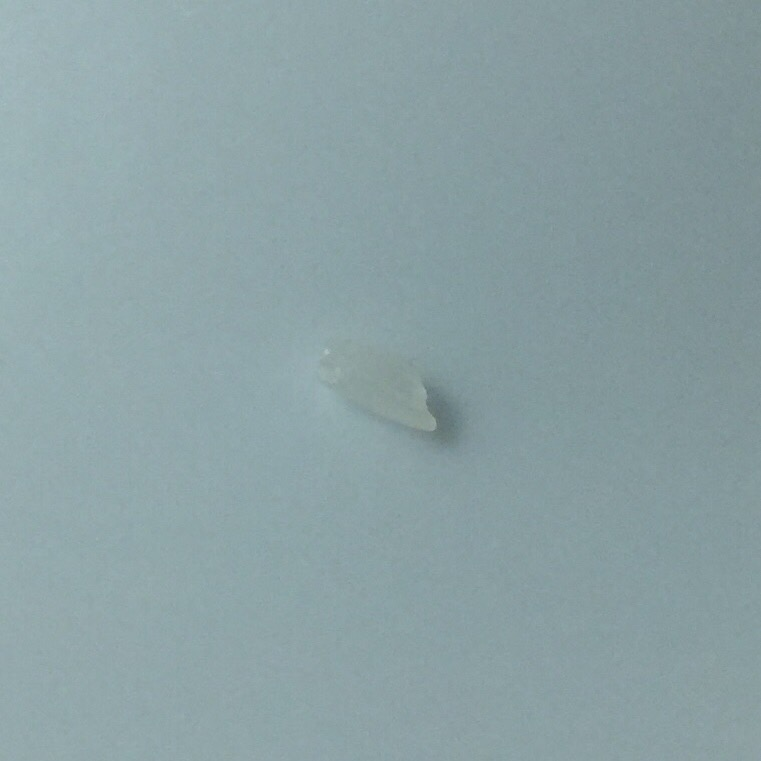Gao Tam: (297, 327, 447, 445)
